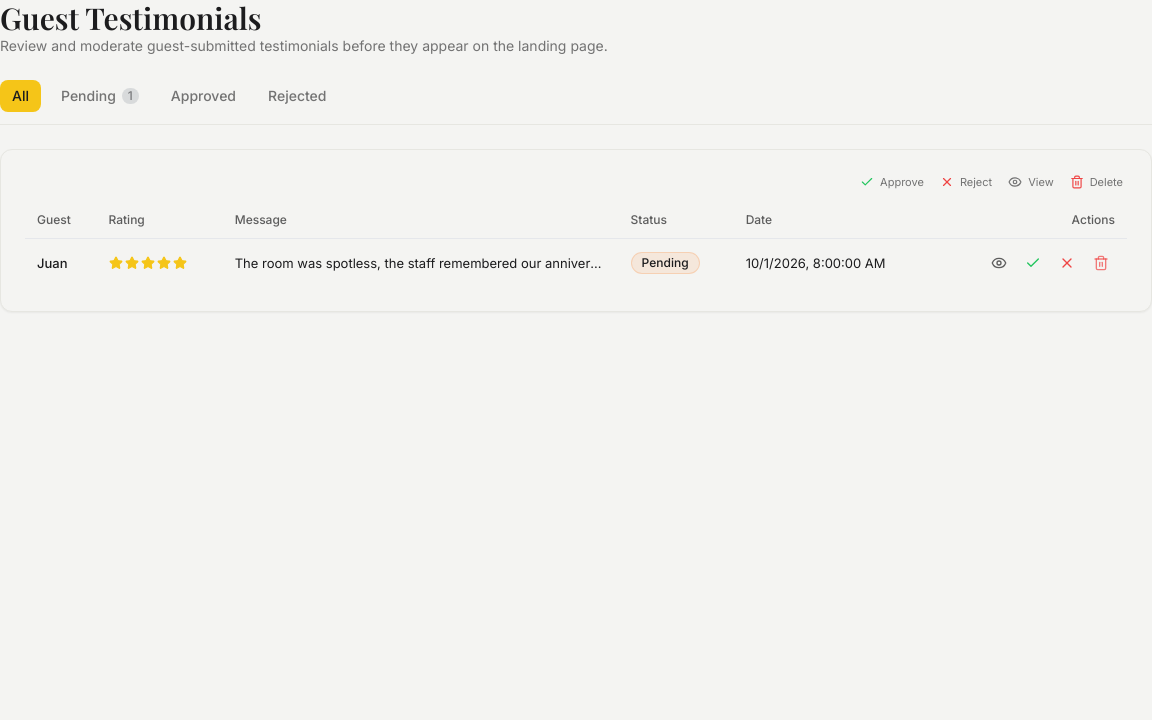
testimonials moderation actions › opens the full testimonial in a View dialog
Expected: the element named "Testimonial actions legend" is shown, [860,175,1123,189]
Click the button named "View testimonial from Juan".
click(999, 263)  # box [985,249,1013,277]
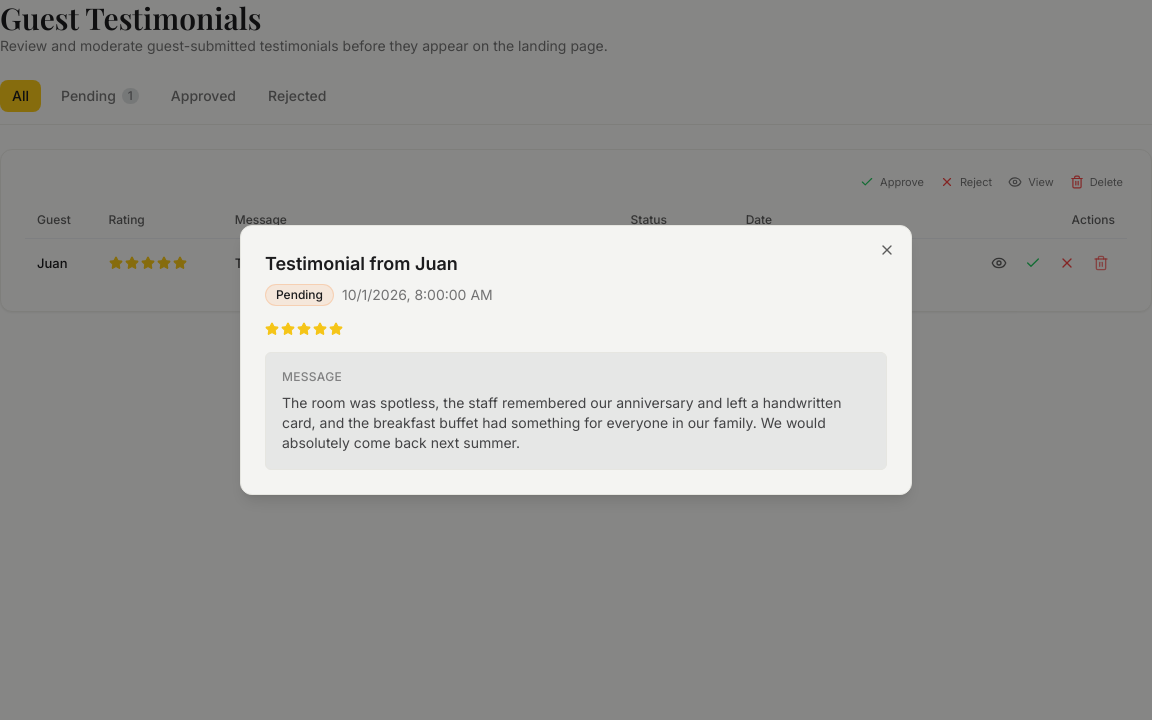
Now the dialog is shown, box [240,225,912,495]
Now the dialog shows "The room was spotless, the staff remembered our anniversary and left a handwritten card, and the breakfast buffet had something for everyone in our family. We w", box [282,394,845,451]
Now the dialog shows "Juan", box [415,253,458,274]
